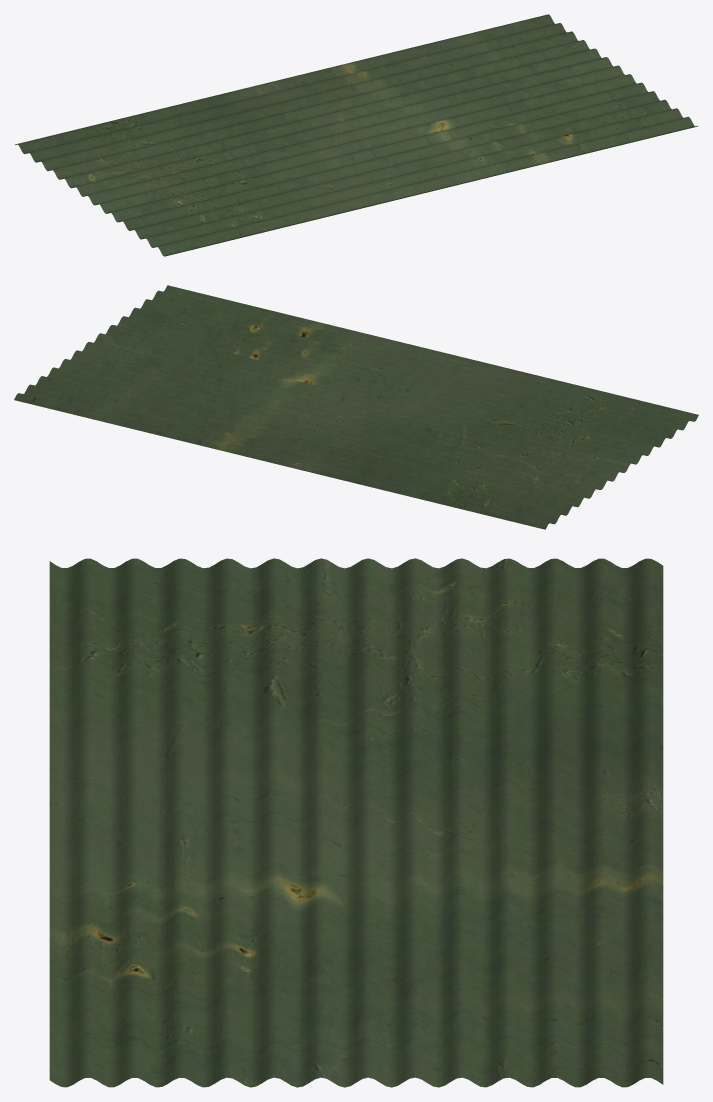
The model's file is oluklu_sac_yesil_2x1m.gltf.
3 renders of one model, top to bottom at view 1: azimuth 30°, elevation 25°; view 2: azimuth 150°, elevation 25°; view 3: azimuth 270°, elevation 25°, orthographic. The views are drawn at different scales.
Parts seen in each view (by area): view 1: oluklu_sac_yesil_2x1m; view 2: oluklu_sac_yesil_2x1m; view 3: oluklu_sac_yesil_2x1m.
Boxes of the visible parts, x1,y1,x2,y2 form: oluklu_sac_yesil_2x1m: (15, 14, 697, 256); oluklu_sac_yesil_2x1m: (14, 285, 698, 529); oluklu_sac_yesil_2x1m: (49, 558, 663, 1087).
Size of what is drawn, in the model's own units: 2 by 0.0188 by 1.
Materials: 1 (1 with a texture image).
